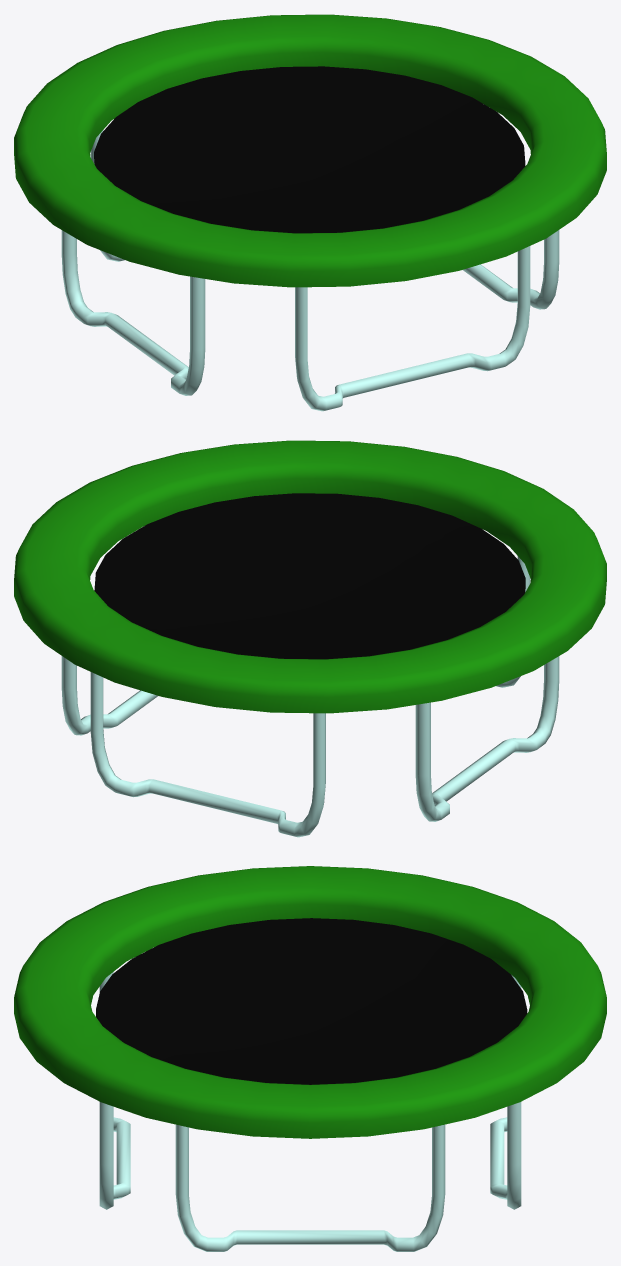
The model's file is trampoline.glb.
3 views of the same model, one above another, from view 1: azimuth 30°, elevation 25°; view 2: azimuth 150°, elevation 25°; view 3: azimuth 270°, elevation 25° (orthographic).
Visible parts, largest first — view 1: Cylinder, Cylinder.002, Cylinder.001_Curve; view 2: Cylinder, Cylinder.002, Cylinder.001_Curve; view 3: Cylinder, Cylinder.002, Cylinder.001_Curve.
Boxes of the visible parts, x1,y1,x2,y2 form: Cylinder: (14, 14, 606, 287); Cylinder.002: (94, 66, 525, 233); Cylinder.001_Curve: (61, 130, 559, 411); Cylinder: (14, 440, 606, 713); Cylinder.002: (94, 493, 525, 659); Cylinder.001_Curve: (61, 556, 559, 837); Cylinder: (14, 866, 606, 1138); Cylinder.002: (96, 918, 527, 1084); Cylinder.001_Curve: (99, 972, 521, 1251).
Size of the model in its own units: 2 by 0.667 by 2.
